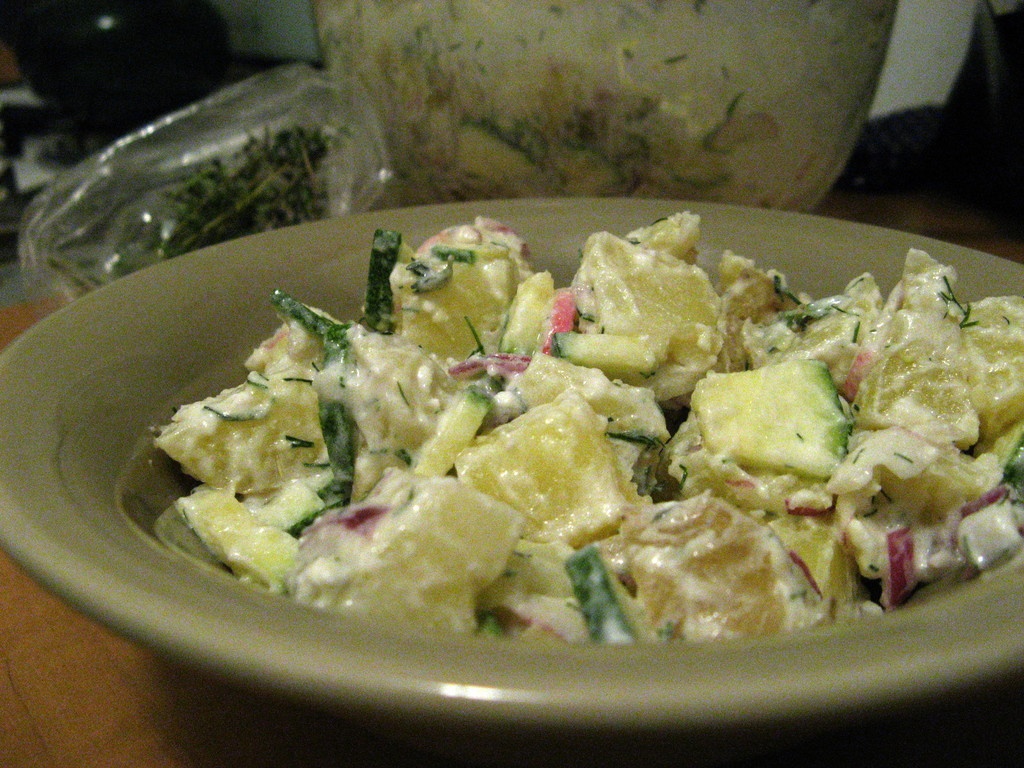salad: (151, 211, 1023, 647)
